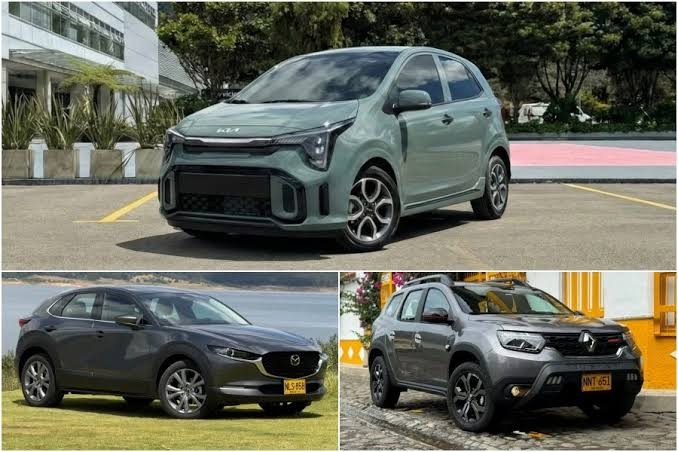car: (167, 48, 515, 244), (10, 282, 334, 421), (355, 275, 651, 427)
